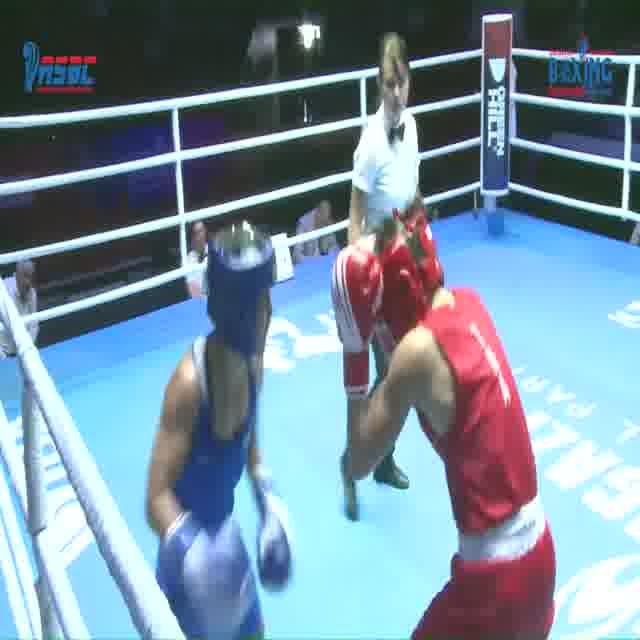blue-player: (138, 224, 299, 640)
red-player: (323, 206, 560, 640)
referee: (339, 28, 422, 524)
